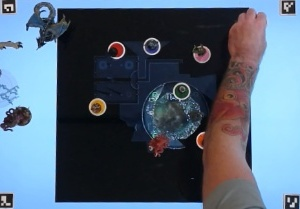blue: (141, 34, 164, 58)
green: (171, 81, 193, 102)
orange: (195, 130, 212, 149)
pink: (191, 44, 213, 65), (107, 39, 127, 61)
yellow: (88, 96, 113, 120)
